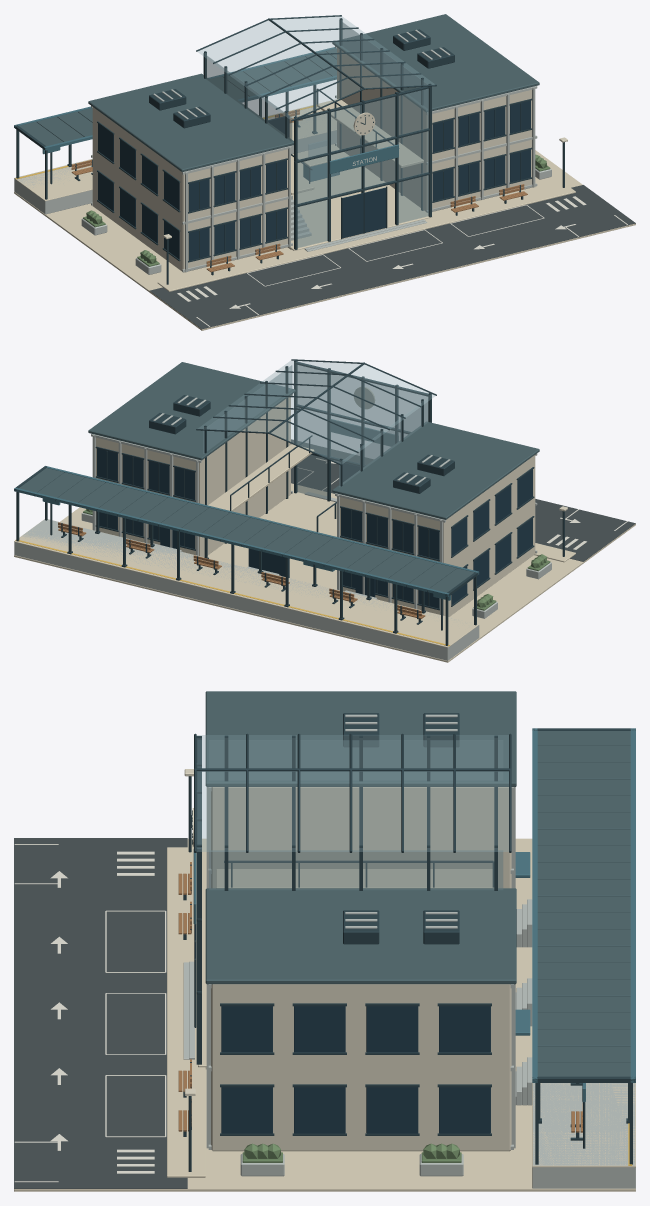
The model's file is train-station-01.glb.
3 renders of one model, top to bottom at view 1: azimuth 30°, elevation 25°; view 2: azimuth 150°, elevation 25°; view 3: azimuth 270°, elevation 25°, orthographic. The views are drawn at different scales.
Parts seen in each view (by area): view 1: DropOffAsphalt, WingRoof, TwoStoreyWing.001, WingRoof.001, TwoStoreyWing, AtriumGlassRoof, WholeLotBase, AtriumGlassRoof.001, AtriumFloor, FrontPedestrianPlaza, PlatformPaving, RearPlatform32m (+59 smaller); view 2: PlatformPaving, RearPlatform32m, WingRoof, WingRoof.001, AtriumGlassRoof, TwoStoreyWing.001, TwoStoreyWing, DropOffAsphalt, WholeLotBase, AtriumGlassRoof.001, AtriumFloor, CanopyFascia.001 (+57 smaller); view 3: DropOffAsphalt, TwoStoreyWing.001, WingRoof.001, WingRoof, AtriumGlassRoof.001, TwoStoreyWing, WholeLotBase, AtriumSideUpperGlass.001, AtriumGlassRoof, RearPlatform32m, AtriumSideUpperGlass, FrontPedestrianPlaza (+42 smaller).
Boxes of the visible parts, x1,y1,x2,y2 form: DropOffAsphalt: [149, 185, 635, 329]; WingRoof: [88, 73, 293, 172]; TwoStoreyWing.001: [337, 47, 532, 211]; WingRoof.001: [332, 14, 539, 112]; TwoStoreyWing: [92, 107, 287, 272]; AtriumGlassRoof: [197, 20, 361, 119]; WholeLotBase: [14, 144, 635, 330]; AtriumGlassRoof.001: [272, 16, 434, 87]; AtriumFloor: [288, 148, 432, 250]; FrontPedestrianPlaza: [157, 183, 575, 291]; PlatformPaving: [14, 105, 336, 201]; RearPlatform32m: [14, 105, 336, 214]; PlatformPaving: [14, 520, 479, 647]; RearPlatform32m: [14, 519, 479, 660]; WingRoof: [332, 421, 539, 519]; WingRoof.001: [88, 362, 295, 460]; AtriumGlassRoof: [271, 364, 435, 463]; TwoStoreyWing.001: [96, 395, 290, 557]; TwoStoreyWing: [340, 455, 535, 616]; DropOffAsphalt: [291, 439, 635, 561]; WholeLotBase: [14, 507, 635, 662]; AtriumGlassRoof.001: [198, 360, 360, 431]; AtriumFloor: [207, 492, 336, 589]; CanopyFascia.001: [14, 487, 449, 596]; DropOffAsphalt: [14, 838, 187, 1188]; TwoStoreyWing.001: [211, 984, 511, 1151]; WingRoof.001: [205, 888, 516, 984]; WingRoof: [205, 691, 516, 786]; AtriumGlassRoof.001: [197, 771, 508, 851]; TwoStoreyWing: [211, 787, 511, 888]; WholeLotBase: [14, 838, 635, 1191]; AtriumSideUpperGlass.001: [209, 850, 503, 889]; AtriumGlassRoof: [197, 735, 508, 767]; RearPlatform32m: [532, 1083, 635, 1188]; AtriumSideUpperGlass: [209, 740, 502, 780]; FrontPedestrianPlaza: [167, 847, 205, 1177].
Size of the model in its own units: 32 by 10.56 by 24.
